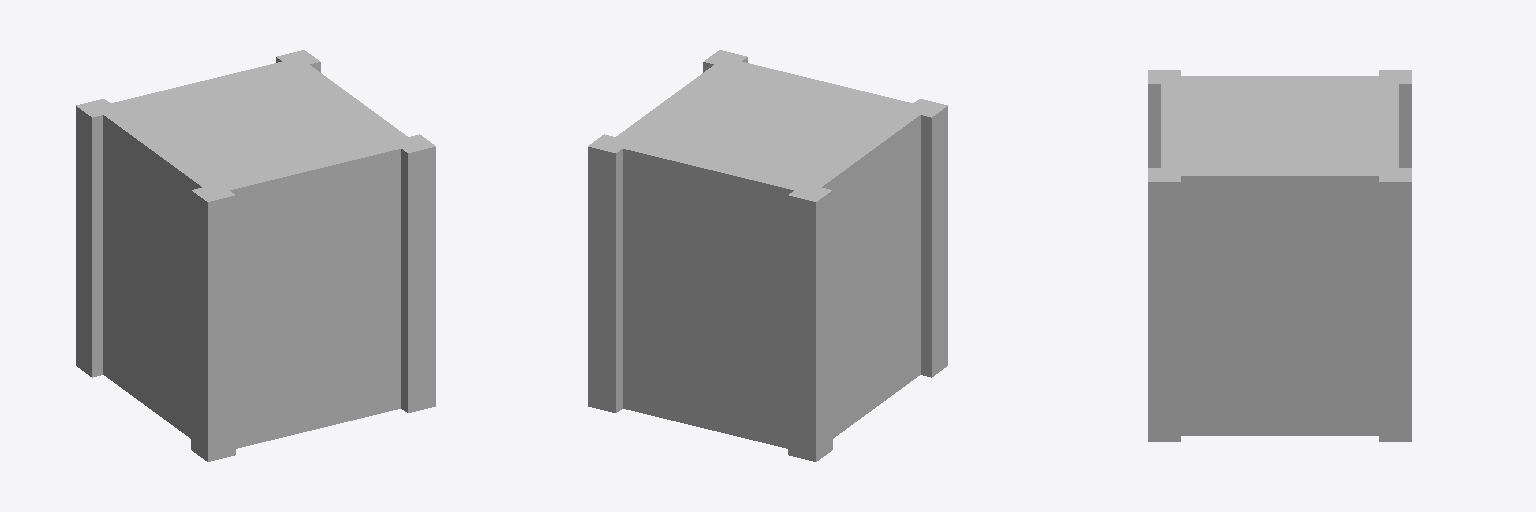
File: towerSquareMid.obj
The picture shows the model from 3 angles: view 1: azimuth 30°, elevation 25°; view 2: azimuth 150°, elevation 25°; view 3: azimuth 270°, elevation 25°; orthographic projection.
Parts seen in each view (by area): view 1: towerSquareMid; view 2: towerSquareMid; view 3: towerSquareMid.
Boxes of the visible parts, box(x1,y1,x2,y2) form: towerSquareMid: box(76, 50, 435, 461); towerSquareMid: box(588, 50, 947, 461); towerSquareMid: box(1148, 70, 1411, 441).
Size of the model in its own units: 9.3 by 10.1 by 9.3.